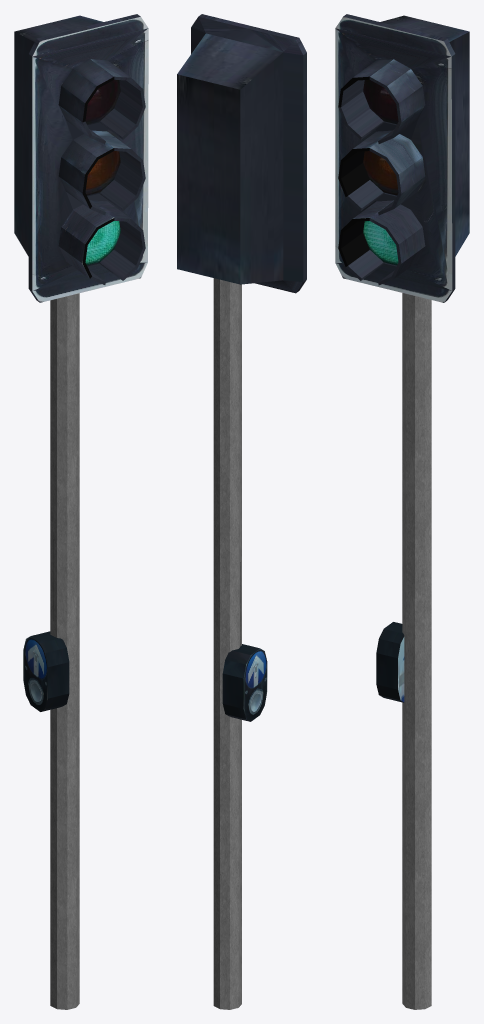
File: TrafficLight.fbx
3 views of the same model, side by side, from view 1: azimuth 30°, elevation 25°; view 2: azimuth 150°, elevation 25°; view 3: azimuth 330°, elevation 25° (orthographic). The views are drawn at different scales.
Parts seen in each view (by area): view 1: Cube, Cylinder, Cube.001; view 2: Cube, Cylinder, Cube.001; view 3: Cube, Cylinder, Cube.001.
Part boxes in pixels (x1,y1,x2,y2): Cube: (14, 14, 148, 302); Cylinder: (50, 293, 79, 1009); Cube.001: (23, 631, 69, 711); Cube: (177, 14, 306, 293); Cylinder: (213, 278, 241, 1009); Cube.001: (222, 644, 267, 721); Cube: (335, 14, 469, 302); Cylinder: (402, 293, 431, 1009); Cube.001: (376, 622, 404, 702).
Size of the model in its own units: 93.09 by 759 by 92.91.
Materials: 3 (3 with a texture image).
